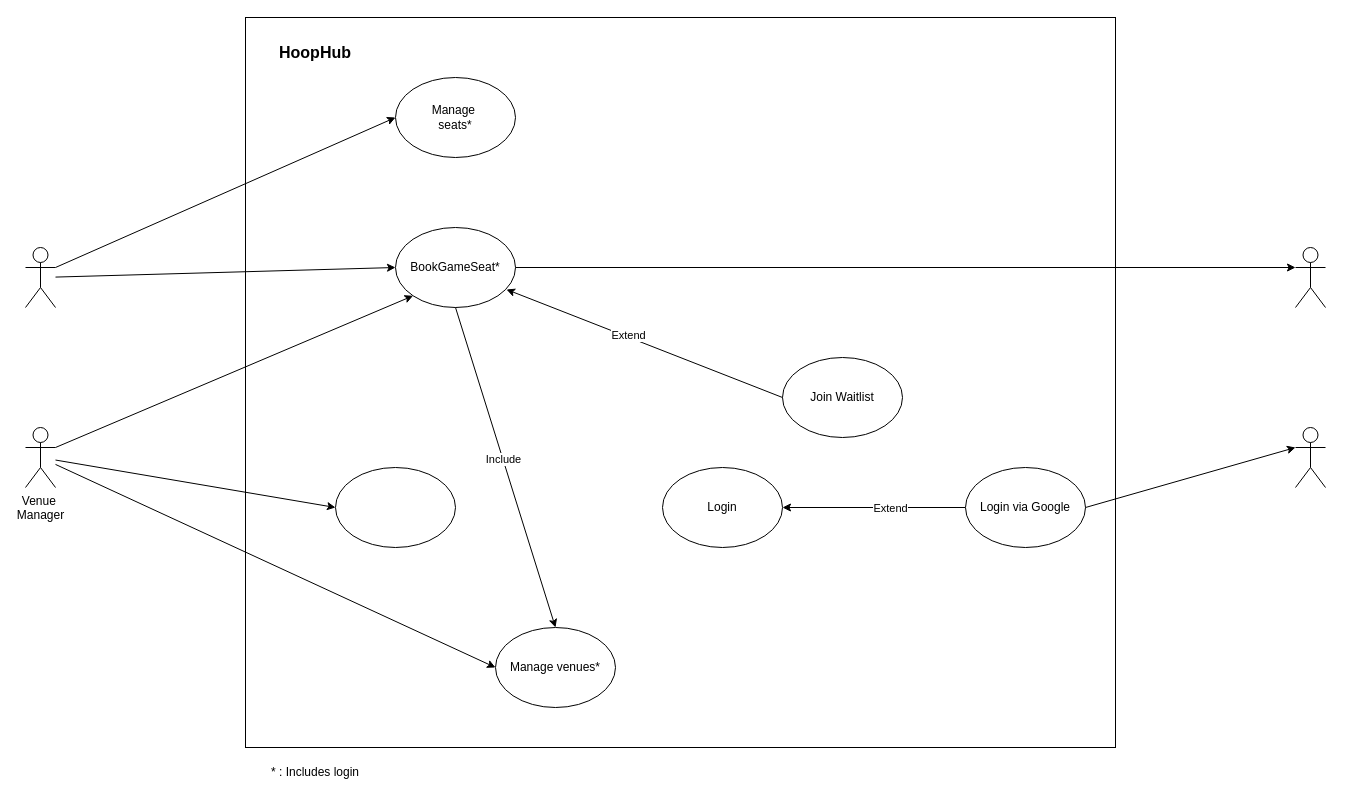
Image size: 1364x805. Some labels were removed from this diagram. The box of each missing label's shape, as (x1, y1, x2, y2) in pixels:
Fan: (24, 246, 56, 308)
Google API: (1294, 426, 1326, 488)
NBA Schedule API: (1294, 246, 1326, 308)
Register venue*: (334, 466, 456, 548)
